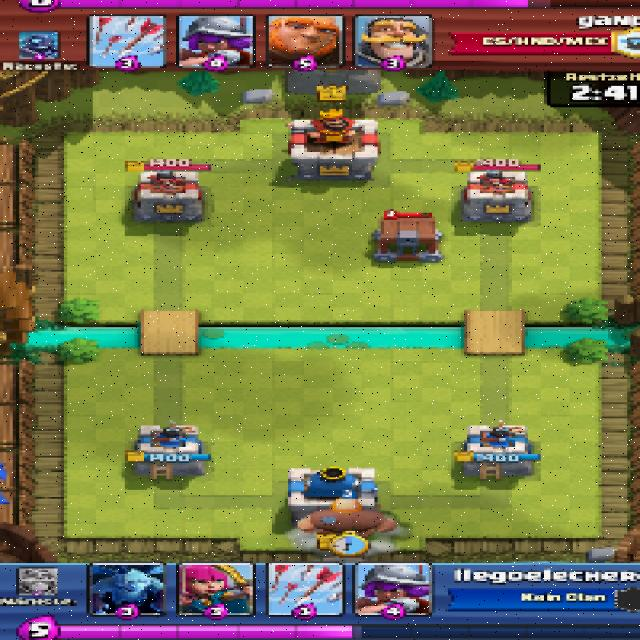Player-Giant: (298, 500, 392, 541)
Player-GoblinCage: (371, 214, 444, 260)
